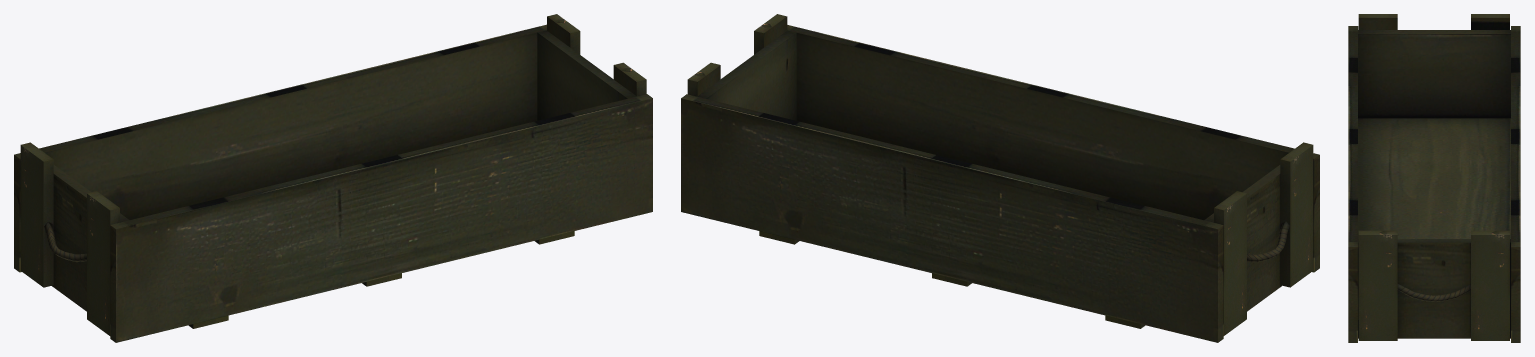
The model's file is longstanopenbox.fbx.
The picture shows the model from 3 angles, left to right: view 1: azimuth 30°, elevation 25°; view 2: azimuth 150°, elevation 25°; view 3: azimuth 270°, elevation 25°; orthographic projection. The views are drawn at different scales.
Parts seen in each view (by area): view 1: supply_crate02_gib1_reference; view 2: supply_crate02_gib1_reference; view 3: supply_crate02_gib1_reference.
Boxes of the visible parts, x1,y1,x2,y2 form: supply_crate02_gib1_reference: (14,14,652,342); supply_crate02_gib1_reference: (681,14,1319,342); supply_crate02_gib1_reference: (1348,14,1520,342).
Size of the model in its own units: 5330 by 1218 by 1688.
